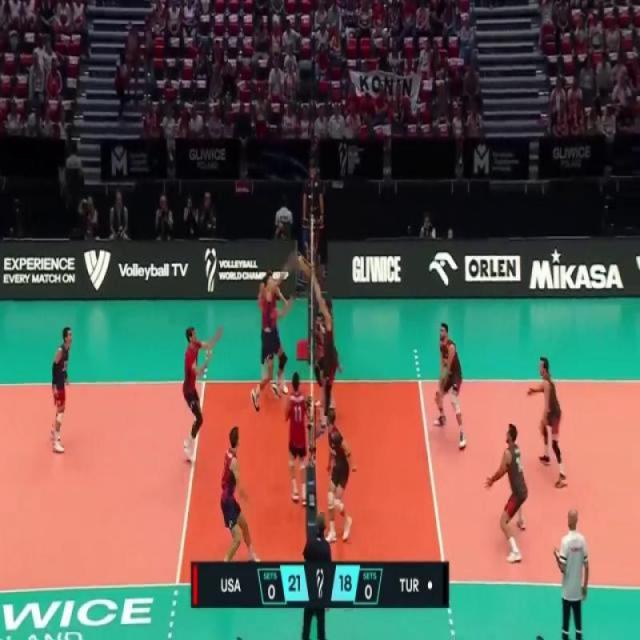volleyball: (295, 254, 313, 278)
